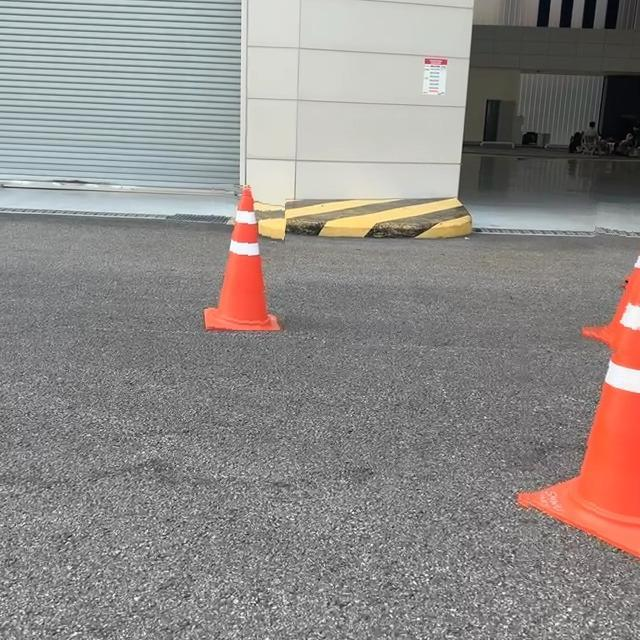fallen_object: (473, 172, 640, 571), (127, 166, 298, 349)
